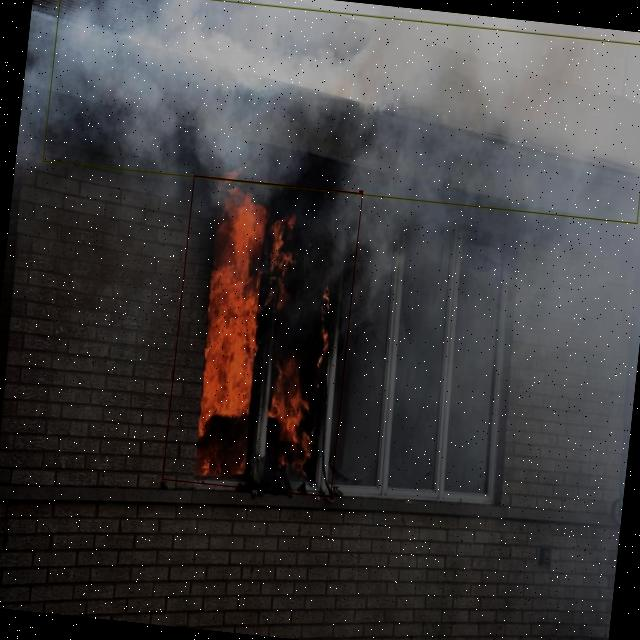fire: (162, 176, 362, 497)
smoke: (43, 0, 640, 223)
